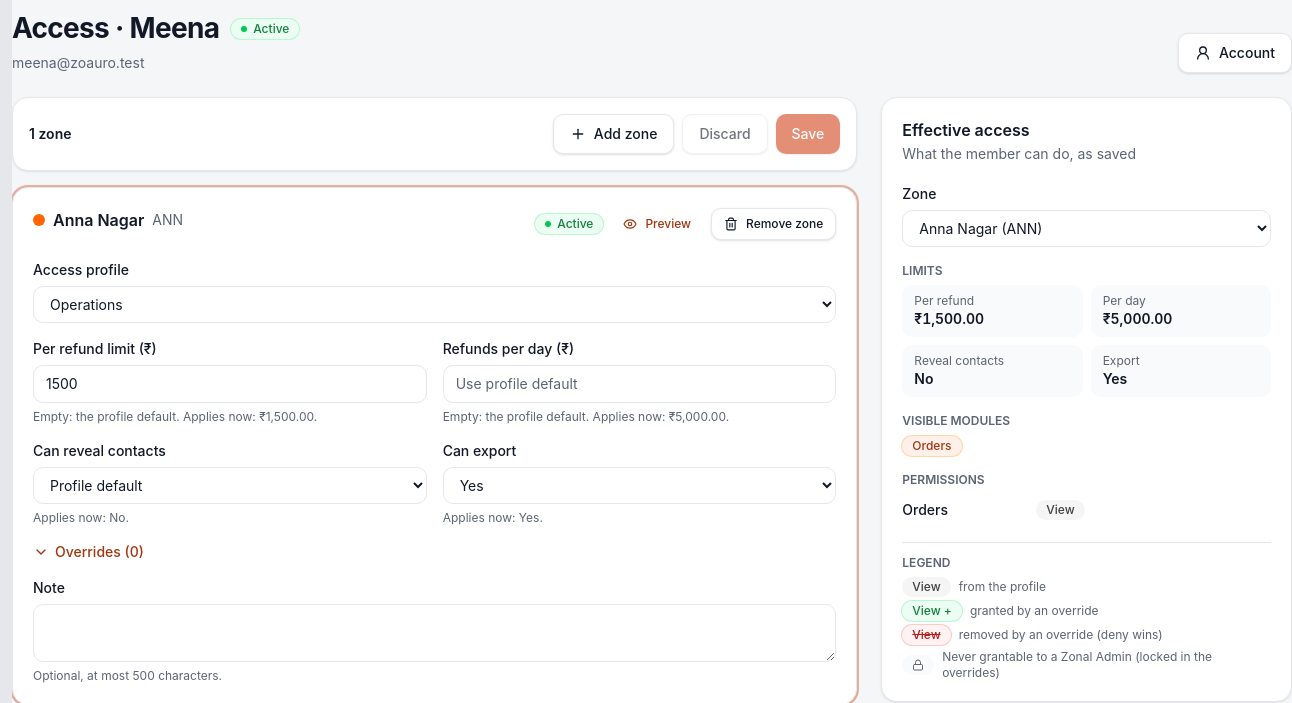
Test: member access editor › a never-grantable cell is disabled
Click the button "Overrides (0)". click: point(88, 552)
box: [33,542,144,562]
(page scrolled)
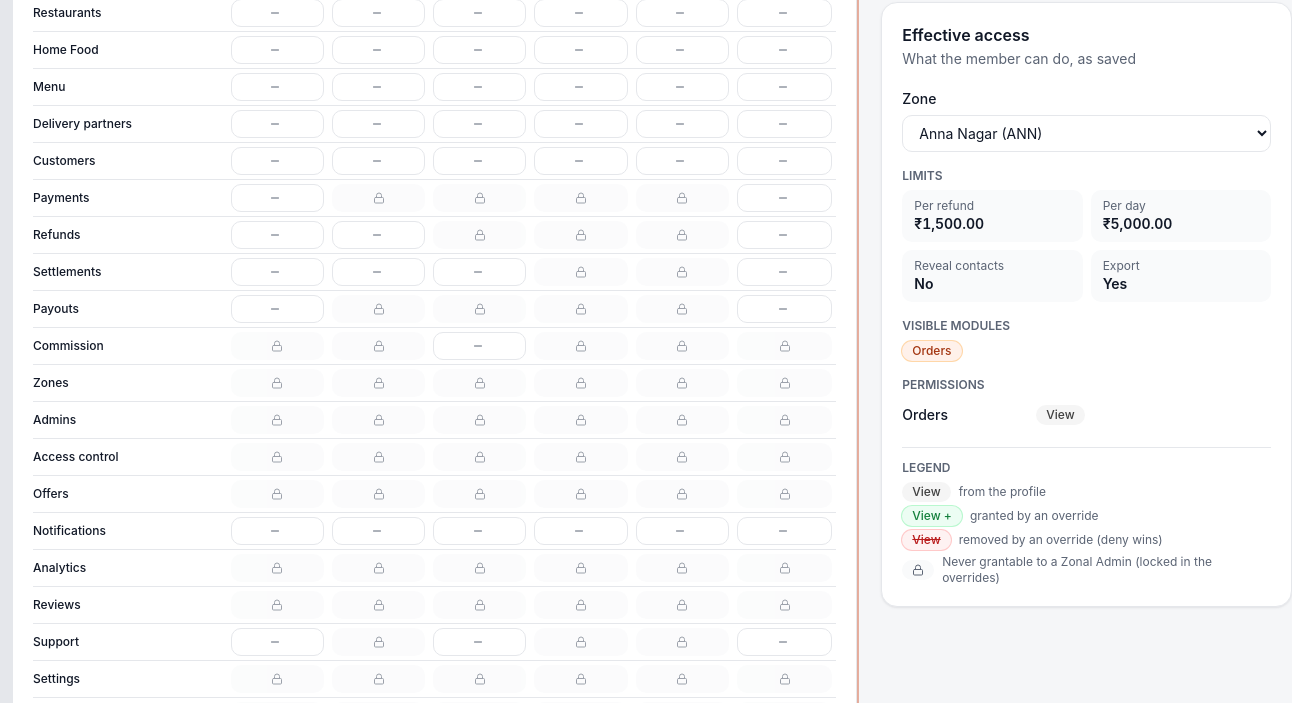
Expected: the button named "zones edit: never grantable to a zonal admin" is disabled, [433,369,526,397]
Expected: the button named "refunds edit: never grantable to a zonal admin" is shown, [433,221,526,249]
Expected: the button named "commission edit: profile default" is enabled, [433,332,526,360]
